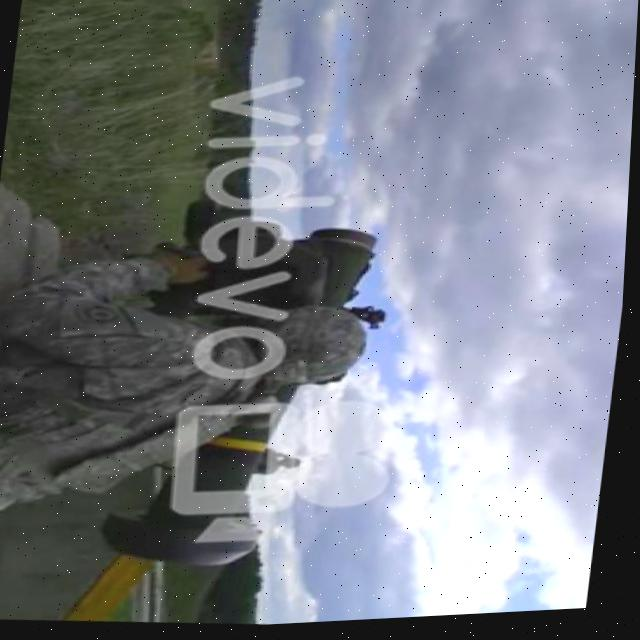rocket: (90, 212, 403, 589)
